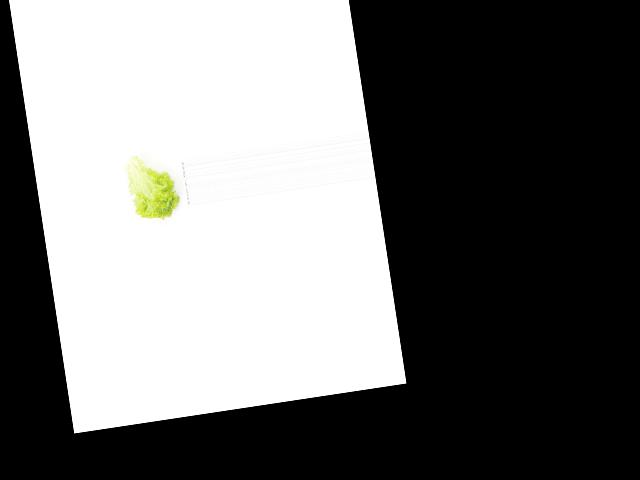lettuce: (121, 150, 182, 226)
